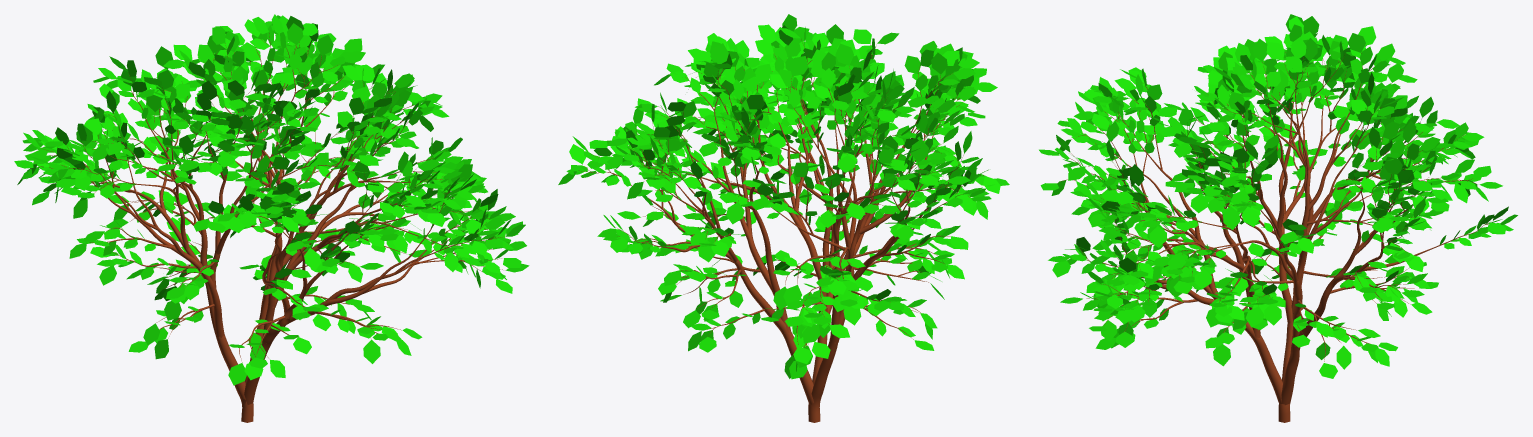
Rendered from tree1.fbx.
3 views of the same model, side by side, from view 1: azimuth 30°, elevation 25°; view 2: azimuth 150°, elevation 25°; view 3: azimuth 270°, elevation 25° (orthographic).
Parts seen in each view (by area): view 1: leaves, tree; view 2: leaves, tree; view 3: leaves, tree.
Part boxes in pixels (x1,y1,x2,y2): leaves: [14, 14, 529, 385]; tree: [31, 33, 505, 422]; leaves: [558, 14, 1009, 379]; tree: [579, 39, 983, 422]; leaves: [1039, 14, 1517, 378]; tree: [1057, 52, 1489, 422].
Bounding box in the file's own units: 1056 × 915 × 1100.
